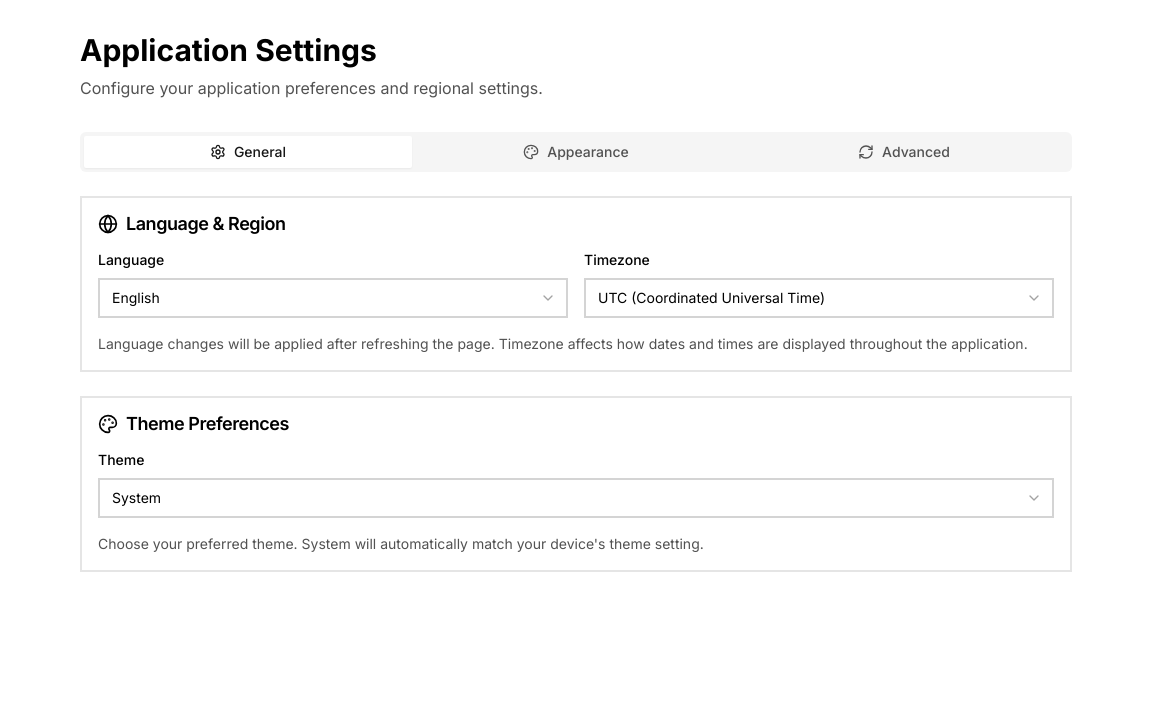
Test: SettingsPage › detects changes and shows save button
Expected: the text "Save Changes" is not shown
# Change language
Select "Español" in the dropdown showing "English" at [333, 298], box [98,278,568,318]
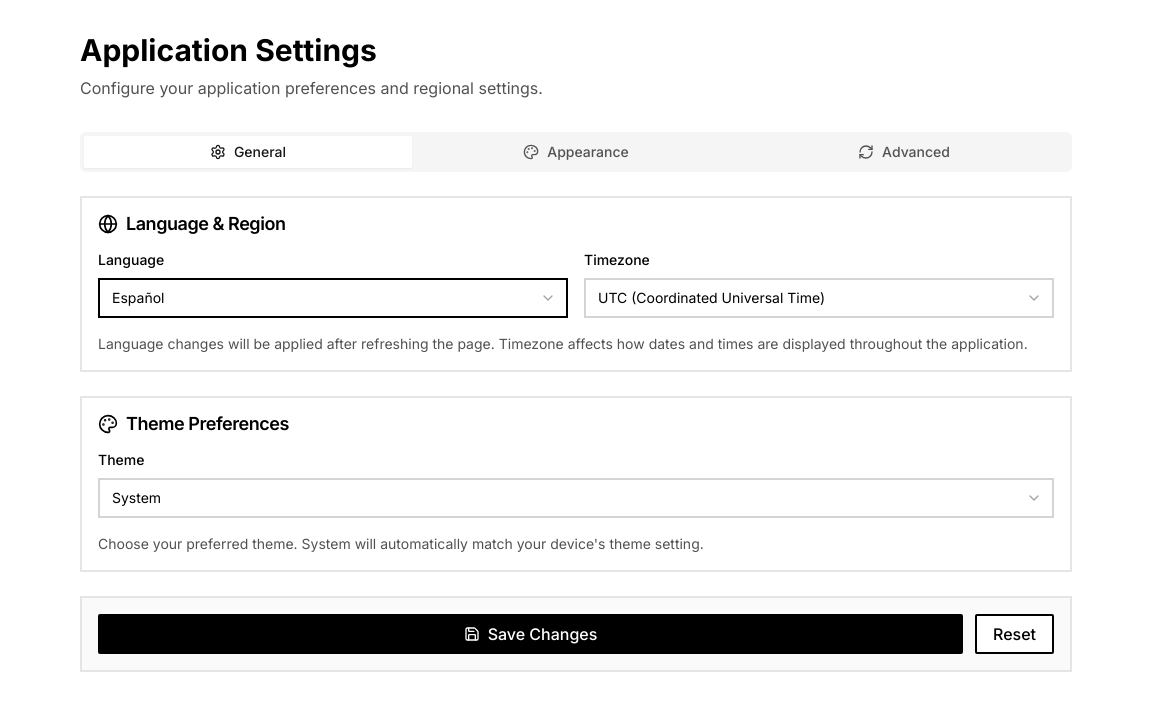
Now the button "Save Changes" is shown, box [98,614,963,654]
